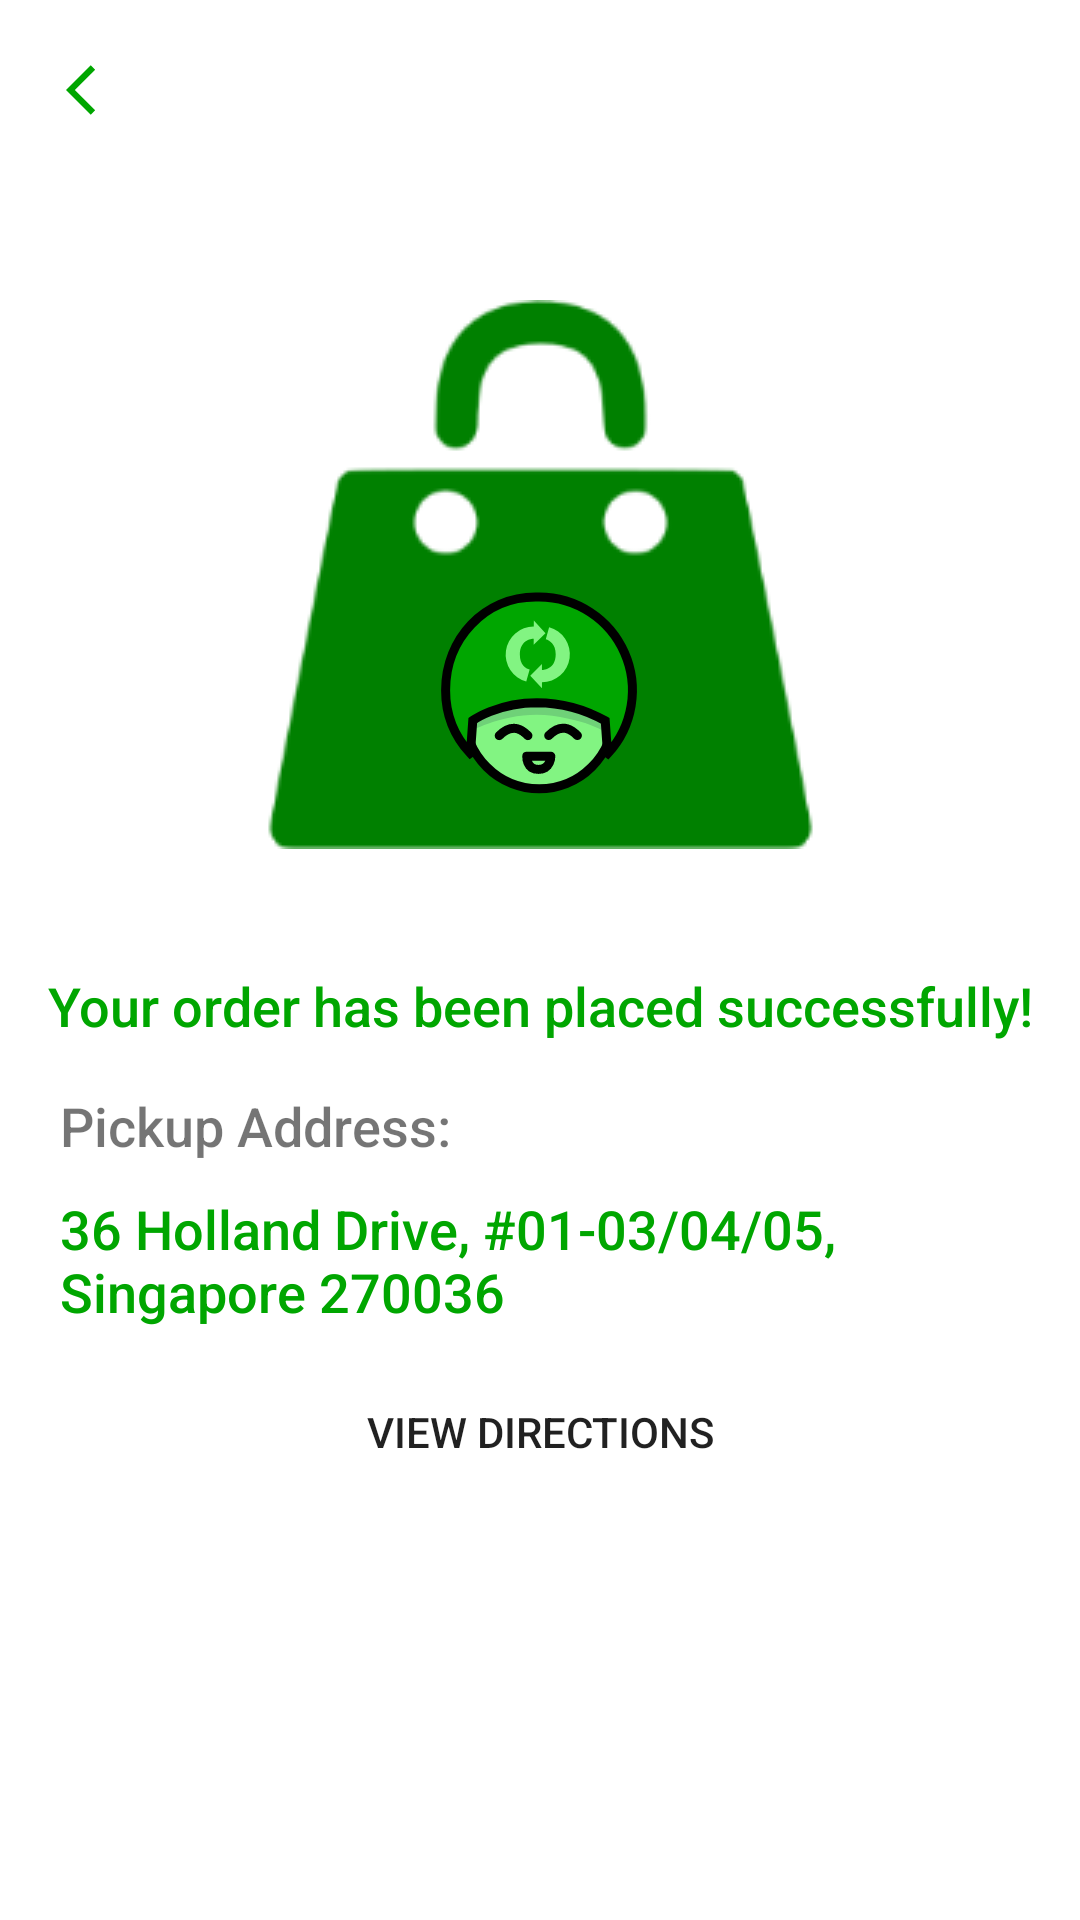

Locate icon controls on the screen. Image size 1080x1920, boxes as box=[x1, y1, x2, y2].
back: box=[66, 65, 95, 115]
